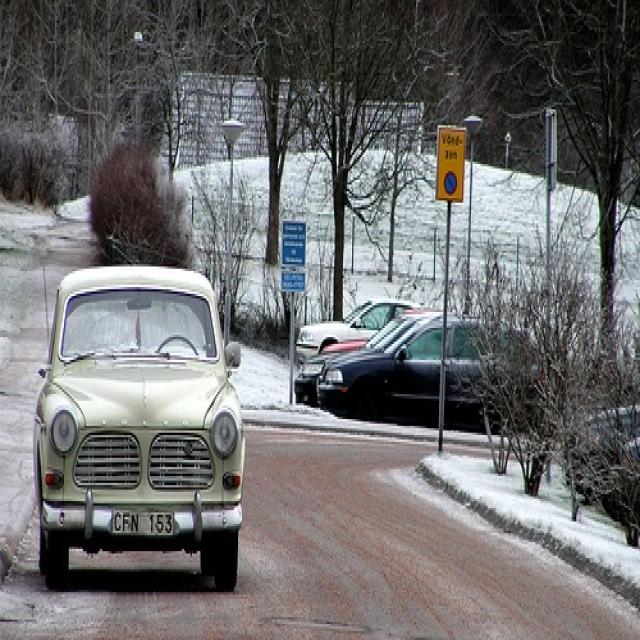car: (33, 266, 246, 588), (317, 312, 544, 428), (295, 296, 421, 367)
